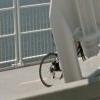Bicycle: (37, 48, 88, 88)
